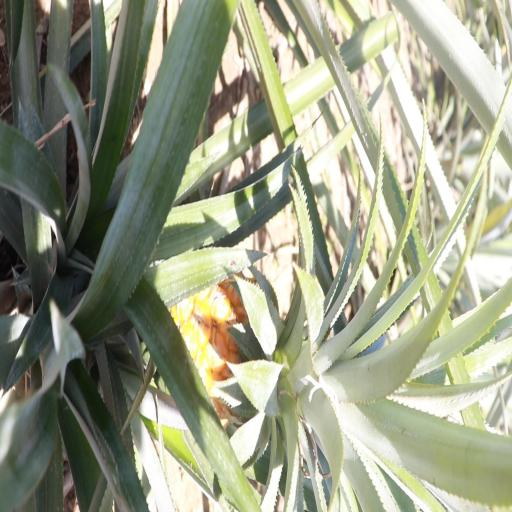Pineapple - v8 v1: (170, 257, 382, 437)
